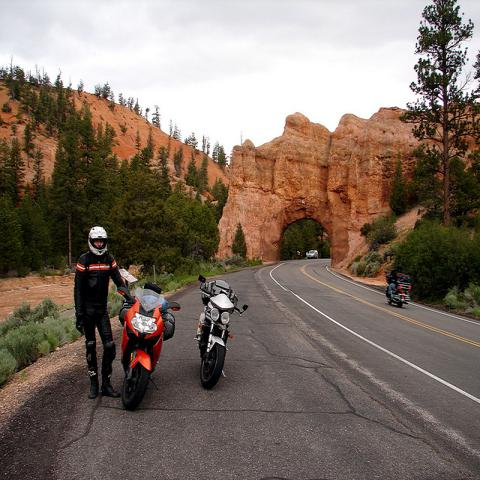car: (288, 247, 300, 260), (308, 250, 318, 259)
motorcycle: (117, 286, 182, 410), (192, 273, 251, 388), (388, 276, 412, 308)
